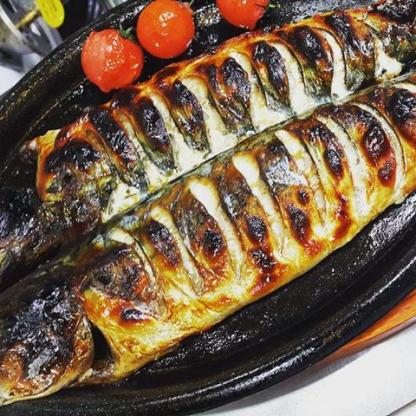Peixe: (0, 0, 416, 413)
